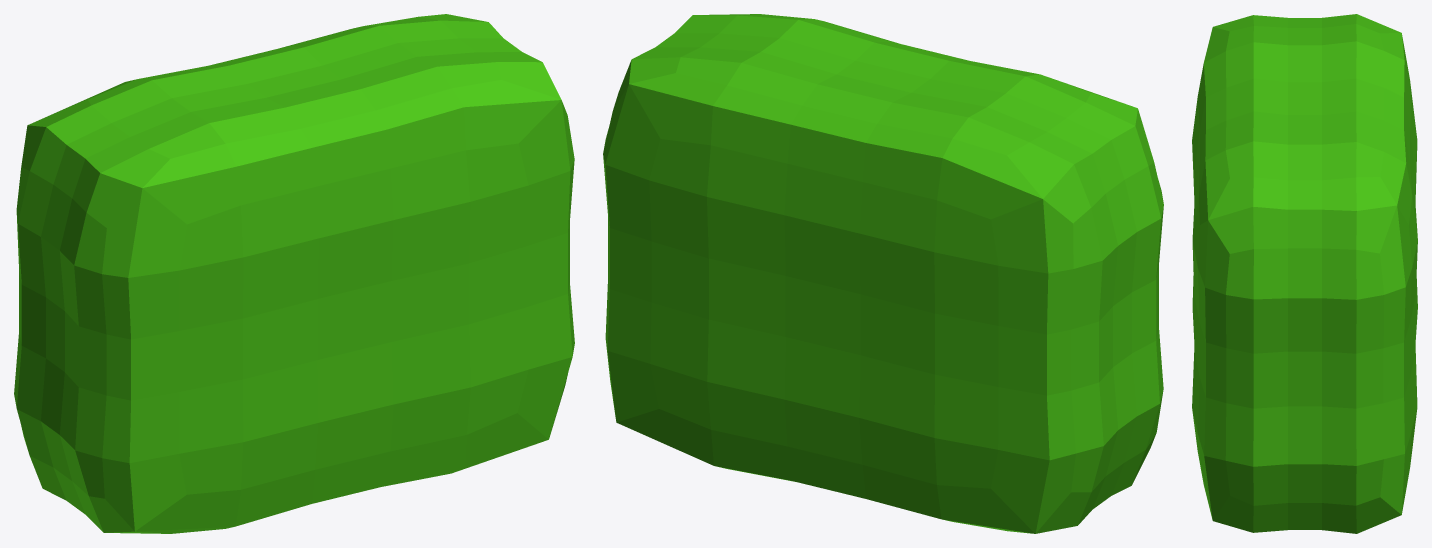
The model's file is Busch_2.fbx.
3 views of the same model, side by side, from view 1: azimuth 30°, elevation 25°; view 2: azimuth 150°, elevation 25°; view 3: azimuth 270°, elevation 25° (orthographic). The views are drawn at different scales.
Parts seen in each view (by area): view 1: Cube; view 2: Cube; view 3: Cube.
Part boxes in pixels (x1=…): Cube: x1=14, y1=14, x2=574, y2=533; Cube: x1=603, y1=14, x2=1163, y2=533; Cube: x1=1192, y1=14, x2=1417, y2=533.
Bounding box in the file's own units: 268 × 208 × 117.
